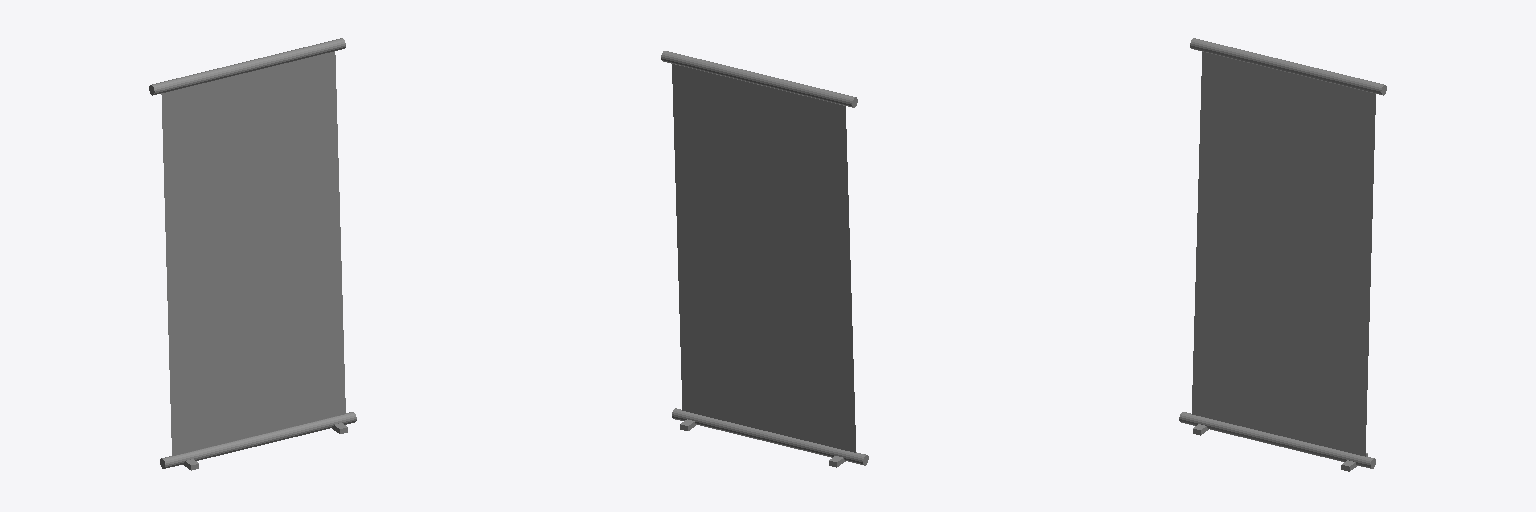
File: standee01.obj
3 views of the same model, side by side, from view 1: azimuth 30°, elevation 25°; view 2: azimuth 150°, elevation 25°; view 3: azimuth 330°, elevation 25° (orthographic).
Parts seen in each view (by area): view 1: Plane01, Cylinder01, Cylinder02; view 2: Plane01, Cylinder01, Cylinder02; view 3: Plane01, Cylinder01, Cylinder02.
Boxes of the visible parts, x1,y1,x2,y2 form: Plane01: [161, 51, 345, 455]; Cylinder01: [149, 38, 345, 95]; Cylinder02: [160, 412, 356, 468]; Plane01: [672, 64, 855, 452]; Cylinder01: [661, 51, 857, 107]; Cylinder02: [672, 408, 868, 465]; Plane01: [1192, 52, 1375, 456]; Cylinder01: [1190, 38, 1386, 95]; Cylinder02: [1179, 412, 1375, 468].
Bounding box in the file's own units: 19.93 × 37.41 × 4.07.